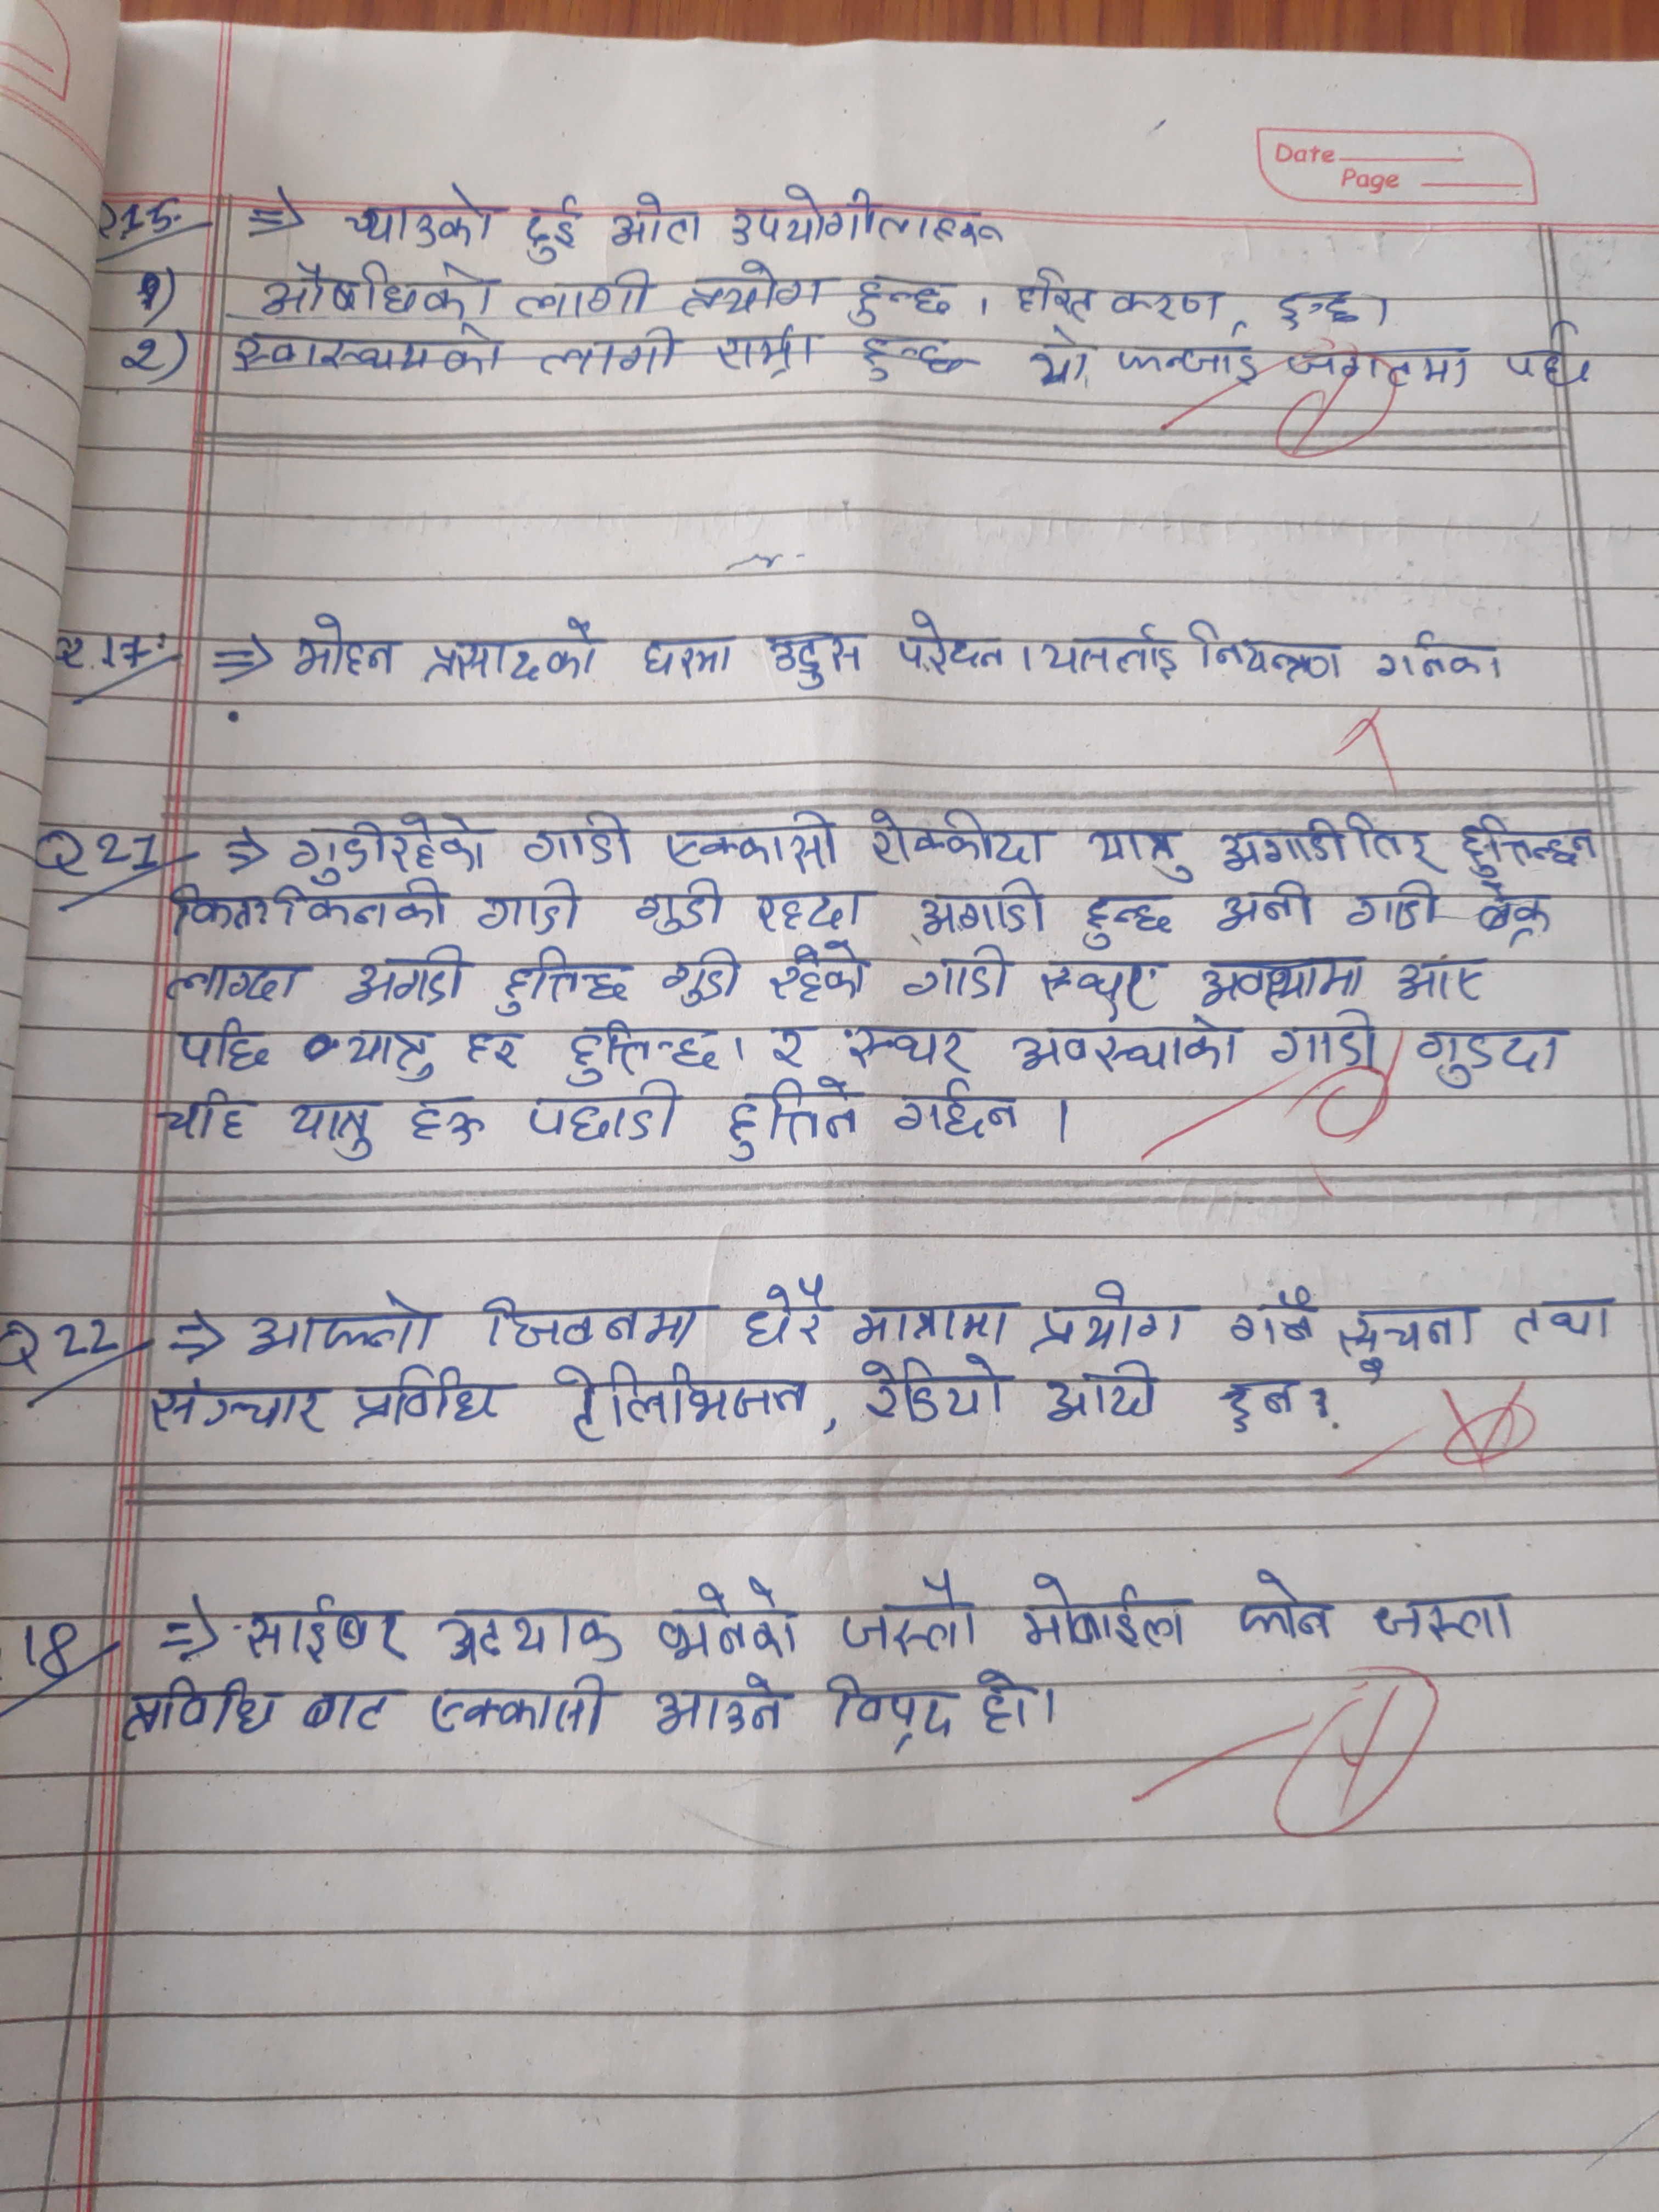text: (545, 1360, 812, 1442), (727, 181, 1007, 254), (166, 874, 451, 937), (258, 256, 502, 322), (230, 322, 511, 378), (1218, 812, 1448, 878), (477, 1294, 713, 1357), (284, 812, 488, 883), (1019, 1568, 1195, 1649), (1014, 263, 1230, 329), (1007, 1017, 1241, 1075), (237, 1592, 418, 1665), (436, 1601, 629, 1669), (1028, 1280, 1201, 1355), (835, 1573, 988, 1656), (425, 1676, 624, 1740), (246, 1291, 441, 1355), (720, 1076, 866, 1162), (657, 1576, 803, 1662), (864, 803, 1061, 866), (823, 1669, 962, 1756), (145, 1374, 331, 1439), (1185, 611, 1349, 685), (425, 617, 606, 681), (662, 806, 843, 871), (563, 1014, 721, 1085), (352, 1362, 518, 1430), (518, 1076, 685, 1143), (1340, 1305, 1483, 1381), (342, 185, 505, 251), (124, 1674, 284, 1740), (491, 942, 640, 1014), (856, 1357, 1019, 1421), (1288, 336, 1471, 394), (1366, 1581, 1527, 1642), (1197, 953, 1366, 1010), (655, 1672, 800, 1738), (849, 1299, 1019, 1353), (1455, 810, 1596, 874), (1415, 1026, 1568, 1085), (918, 874, 1049, 942), (894, 603, 1011, 676), (894, 1078, 1025, 1143), (1042, 1359, 1166, 1426), (1075, 880, 1187, 954), (681, 261, 833, 314), (1234, 1569, 1338, 1642), (1371, 629, 1507, 685), (1042, 624, 1178, 678), (835, 1024, 979, 1075), (762, 624, 871, 690), (518, 272, 660, 322), (1082, 822, 1197, 885), (765, 942, 880, 1005), (1504, 317, 1600, 392), (160, 956, 310, 1003), (742, 1278, 836, 1353), (343, 949, 469, 1005), (1110, 341, 1269, 385), (289, 615, 399, 678), (1272, 1012, 1377, 1076), (525, 812, 638, 871), (606, 185, 709, 249), (845, 265, 957, 324), (856, 324, 969, 381), (903, 949, 1016, 1007), (538, 334, 685, 378), (153, 1087, 256, 1148), (1506, 1296, 1624, 1348), (1222, 874, 1321, 935), (1215, 1369, 1307, 1433), (716, 320, 826, 374), (1394, 951, 1493, 1010), (286, 1101, 380, 1162), (474, 881, 587, 932), (1344, 878, 1443, 935), (1230, 1285, 1323, 1346), (1473, 881, 1558, 946), (655, 949, 742, 1012), (173, 1017, 274, 1071), (342, 1024, 439, 1080), (627, 881, 727, 935), (301, 1684, 403, 1737), (756, 890, 870, 935), (519, 188, 589, 261), (972, 1665, 1042, 1737), (1026, 324, 1103, 387), (638, 636, 742, 681), (1274, 286, 1368, 334), (408, 1092, 483, 1150), (770, 1015, 819, 1075), (460, 1024, 519, 1068)
